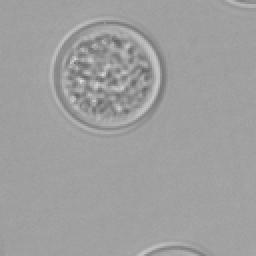picoshell: (50, 18, 166, 134), (136, 240, 212, 254)
